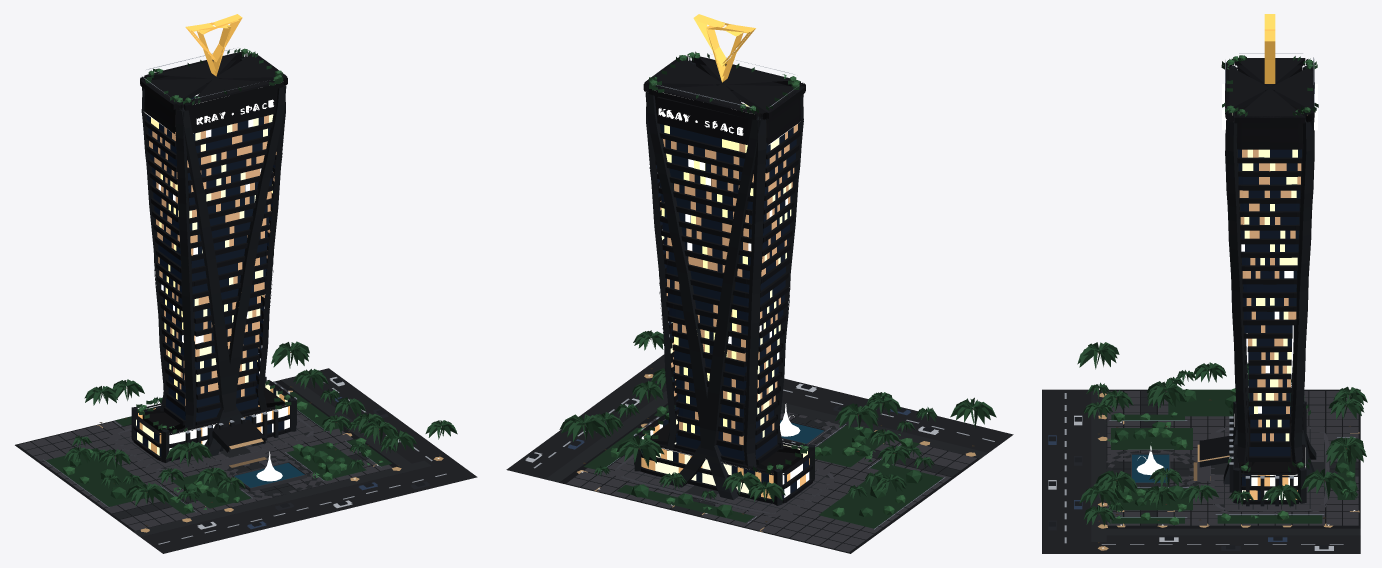
The model's file is kray-tower-lod1.glb.
3 views of the same model, side by side, from view 1: azimuth 30°, elevation 25°; view 2: azimuth 150°, elevation 25°; view 3: azimuth 270°, elevation 25° (orthographic). The views are drawn at different scales.
Parts seen in each view (by area): view 1: Kray_Tower, Kray_Site, Kray_Sign_Plate, KRAY_CROWN_ICON, Kray_Roof_Garden, Site_Basin; view 2: Kray_Tower, Kray_Site, Kray_Sign_Plate, KRAY_CROWN_ICON, Kray_Roof_Garden, Site_Basin; view 3: Kray_Site, Kray_Tower, Kray_Roof_Garden, Site_Basin, KRAY_CROWN_ICON.
Part boxes in pixels (bbox=[...]): Kray_Tower: bbox=[131, 48, 296, 462]; Kray_Site: bbox=[15, 341, 477, 553]; Kray_Sign_Plate: bbox=[192, 78, 275, 133]; KRAY_CROWN_ICON: bbox=[185, 14, 242, 76]; Kray_Roof_Garden: bbox=[136, 48, 291, 433]; Site_Basin: bbox=[232, 461, 306, 491]; Kray_Tower: bbox=[633, 55, 814, 505]; Kray_Site: bbox=[506, 330, 1013, 553]; Kray_Sign_Plate: bbox=[657, 84, 748, 144]; KRAY_CROWN_ICON: bbox=[693, 14, 755, 82]; Kray_Roof_Garden: bbox=[642, 51, 808, 473]; Site_Basin: bbox=[780, 418, 826, 446]; Kray_Site: bbox=[1042, 342, 1367, 553]; Kray_Tower: bbox=[1197, 53, 1316, 506]; Kray_Roof_Garden: bbox=[1221, 55, 1318, 472]; Site_Basin: bbox=[1131, 453, 1170, 486]; KRAY_CROWN_ICON: bbox=[1264, 14, 1275, 83].
Bounding box in the file's own units: 310 × 379 × 252.
